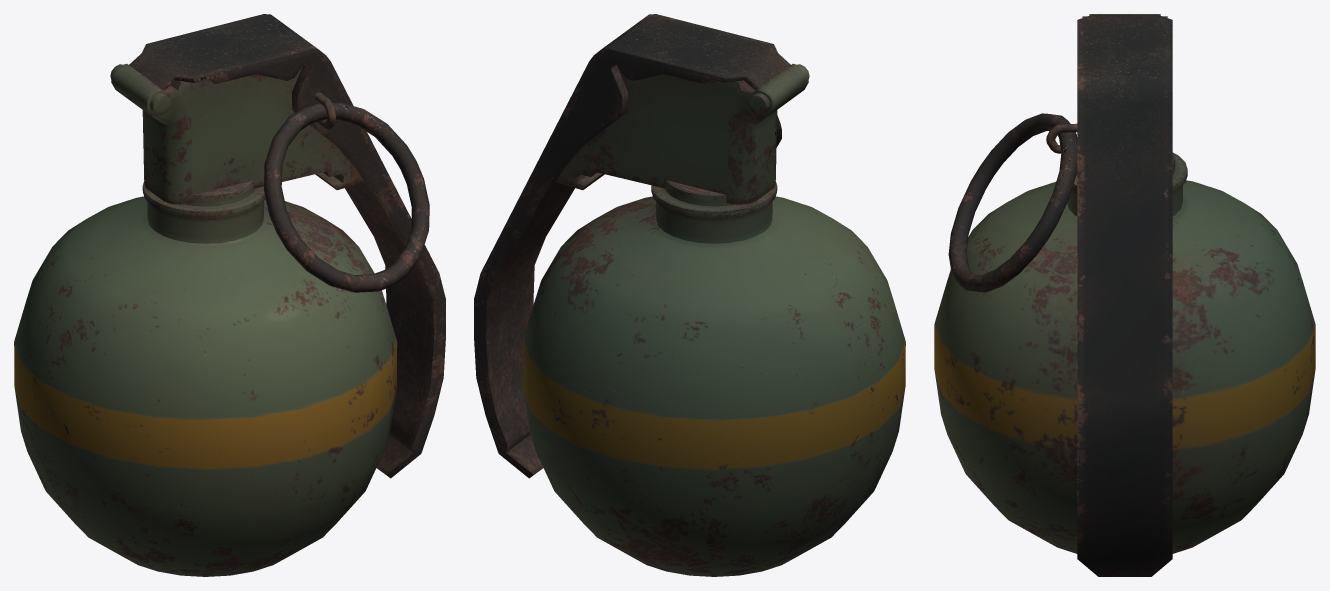
The model's file is nade.fbx.
3 views of the same model, side by side, from view 1: azimuth 30°, elevation 25°; view 2: azimuth 150°, elevation 25°; view 3: azimuth 270°, elevation 25° (orthographic).
Visible parts, largest first — view 1: grenade_1, ring; view 2: grenade_1; view 3: grenade_1, ring.
Part boxes in pixels (box(x1,y1,x2,y2)): grenade_1: box(14, 14, 445, 576); ring: box(264, 102, 429, 292); grenade_1: box(474, 14, 905, 576); grenade_1: box(934, 14, 1315, 576); ring: box(948, 113, 1077, 292).
Bounding box in the file's own units: 168 × 213 × 146.
1 material, 1 textured.
